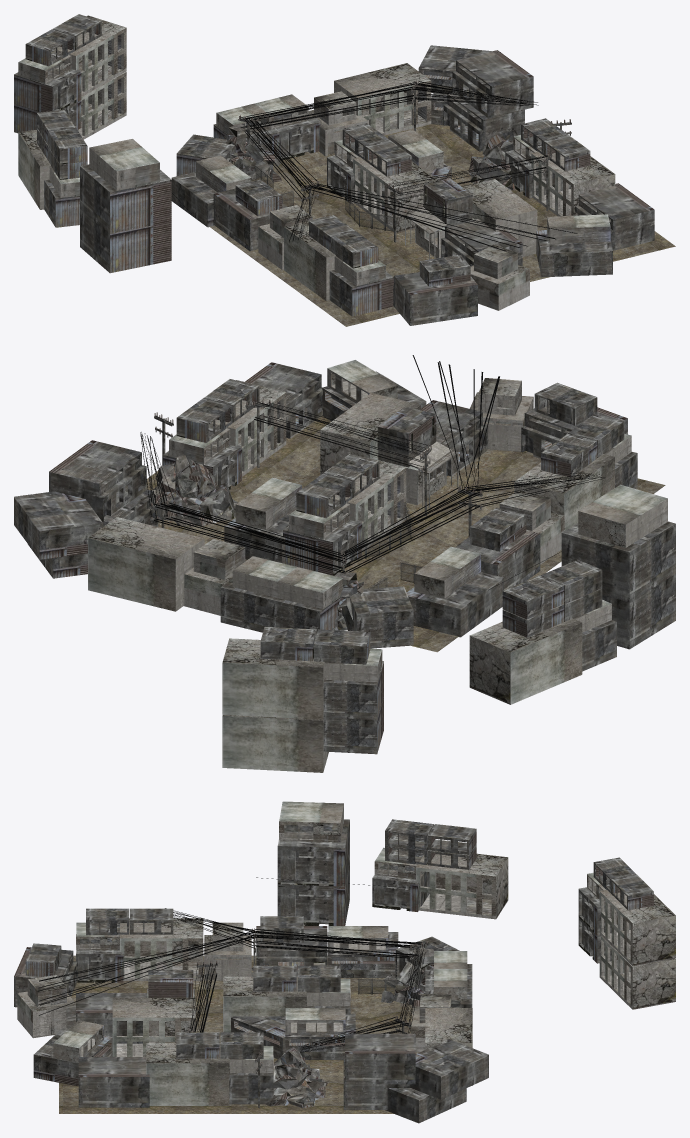
File: isle_ruin.glb
3 renders of one model, top to bottom at view 1: azimuth 30°, elevation 25°; view 2: azimuth 150°, elevation 25°; view 3: azimuth 270°, elevation 25°, orthographic. The views are drawn at different scales.
Visible parts, largest first — view 1: ruin; view 2: ruin; view 3: ruin.
Part boxes in pixels (x1=…): ruin: x1=14, y1=14, x2=675, y2=326; ruin: x1=14, y1=355, x2=675, y2=772; ruin: x1=14, y1=801, x2=675, y2=1123.
Bounding box in the file's own units: 52.34 × 12.68 × 64.4.
5 materials, 4 textured.
